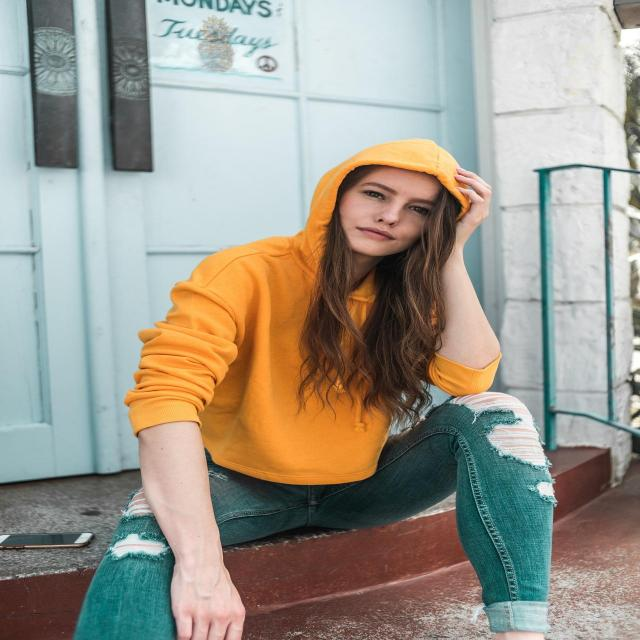person: (73, 73, 601, 640)
